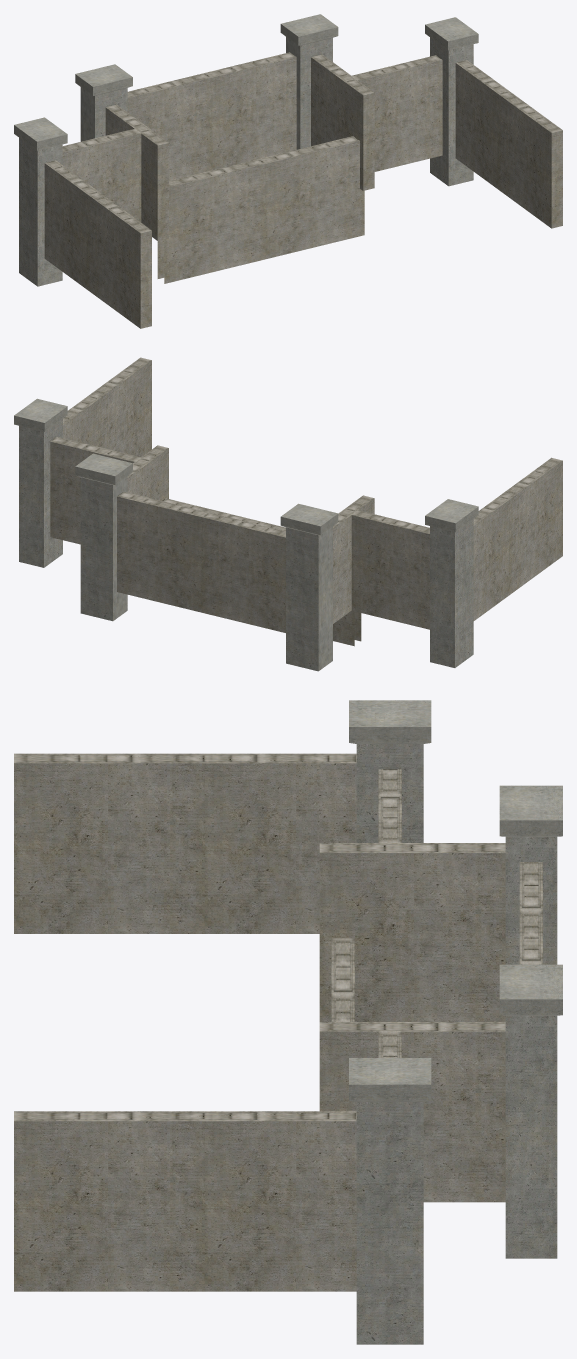
Rendered from poi_all_corral_half_32x32_s03_l0.fbx.
The picture shows the model from 3 angles, top to bottom: view 1: azimuth 30°, elevation 25°; view 2: azimuth 150°, elevation 25°; view 3: azimuth 270°, elevation 25°; orthographic projection. The views are drawn at different scales.
Parts seen in each view (by area): view 1: mesh_node; view 2: mesh_node; view 3: mesh_node.
Boxes of the visible parts, x1,y1,x2,y2 form: mesh_node: (14,14,562,328); mesh_node: (14,357,562,671); mesh_node: (14,700,562,1344).
Bounding box in the file's own units: 19.35 × 7.05 × 11.67.
